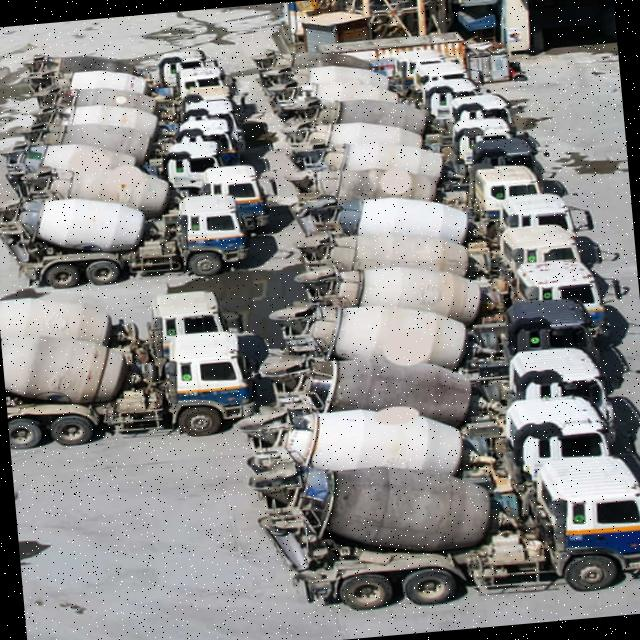Mixer Truck: (244, 432, 640, 622), (233, 374, 620, 526), (254, 324, 616, 468), (270, 279, 608, 409), (294, 241, 611, 368), (0, 314, 266, 454), (291, 172, 580, 278), (0, 178, 256, 294), (292, 210, 586, 308), (18, 146, 270, 254), (281, 147, 546, 245), (0, 274, 236, 382), (282, 124, 548, 203), (0, 127, 234, 213), (278, 104, 516, 174), (8, 111, 242, 175), (278, 82, 515, 144), (268, 69, 483, 134), (15, 70, 236, 132), (21, 40, 212, 109), (252, 34, 454, 94), (16, 92, 240, 146), (272, 50, 472, 106), (26, 55, 230, 108)
